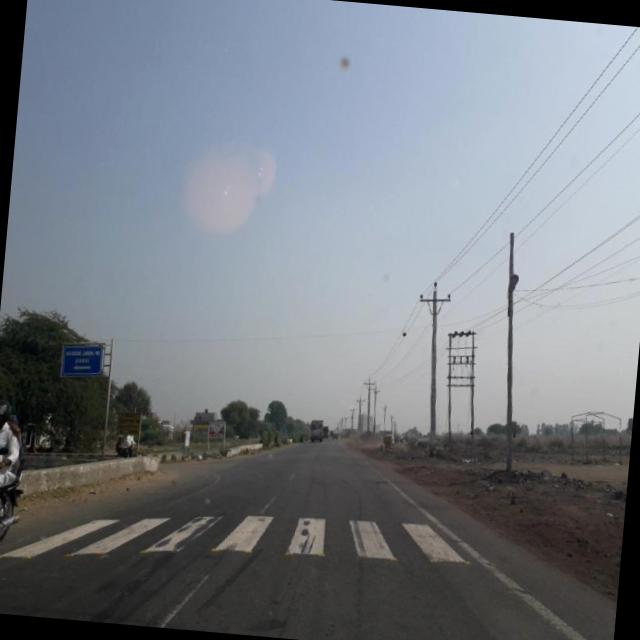pothole: (266, 520, 323, 638)
